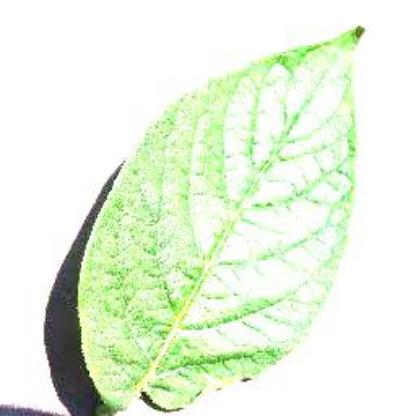Healthy-plant: (70, 21, 372, 413)
